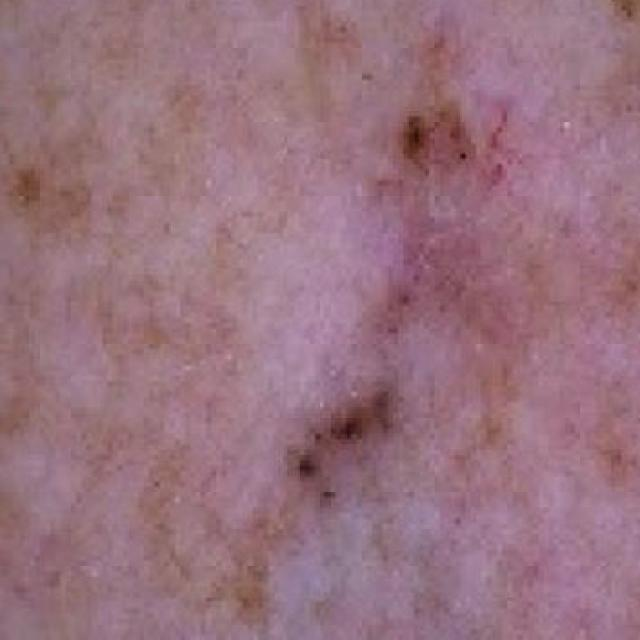BCC: (137, 0, 628, 594)
